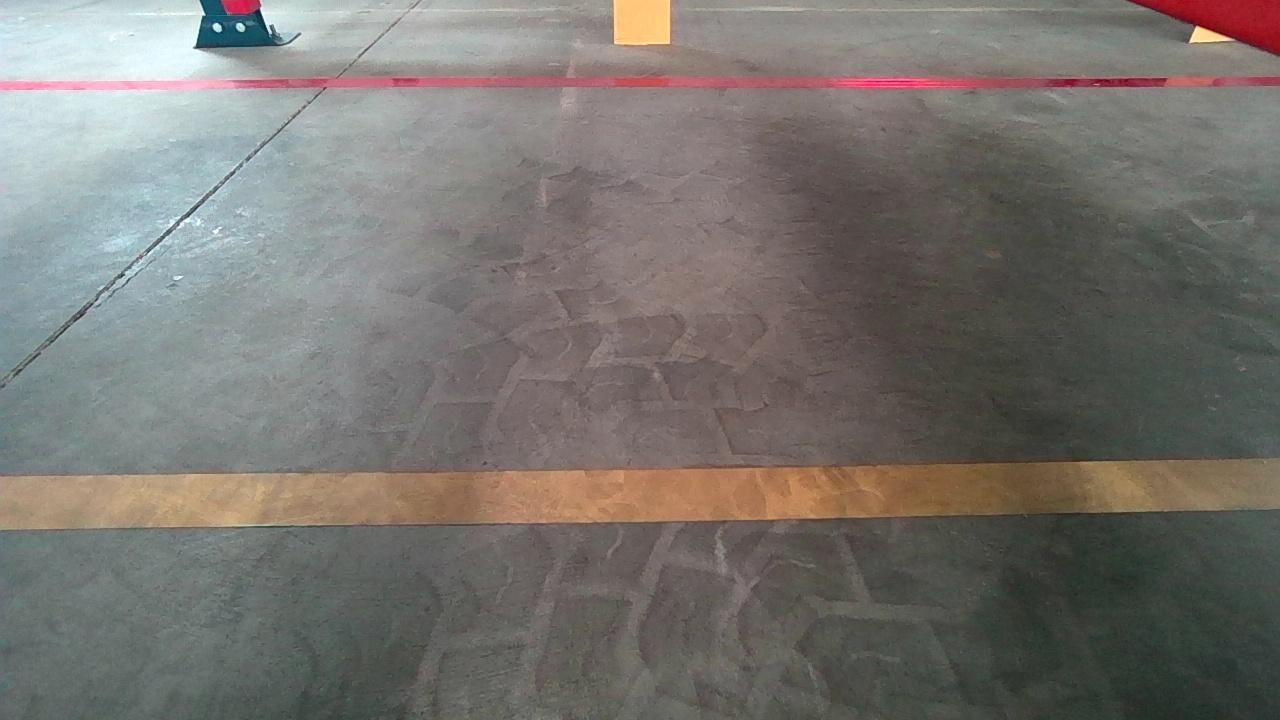orange_strip: (612, 0, 673, 45)
yellow_line: (0, 458, 1273, 531)
